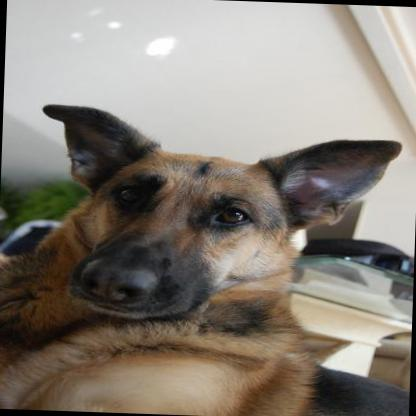German_shepherd: (0, 98, 407, 416)
